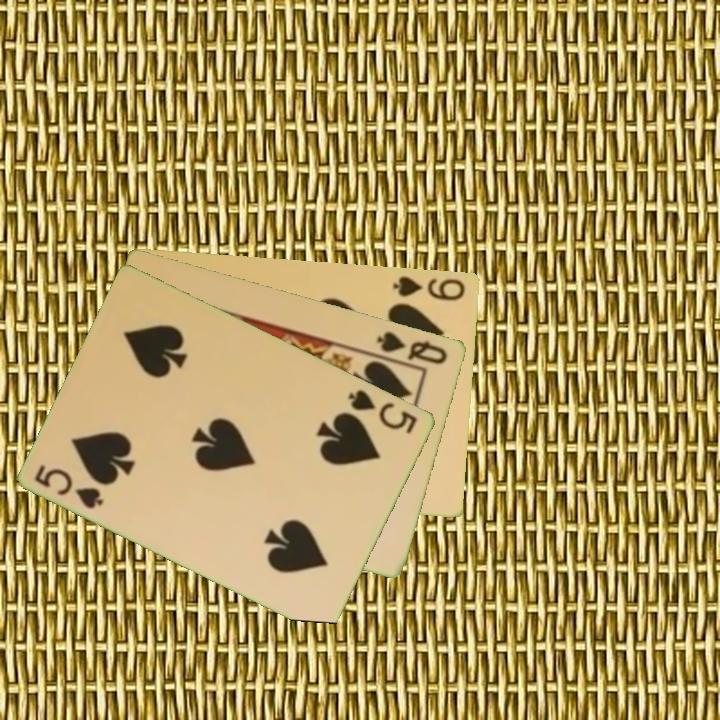5s: (345, 386, 421, 437), (31, 461, 107, 512)
9s: (389, 272, 469, 303)
Qs: (373, 327, 451, 367)
